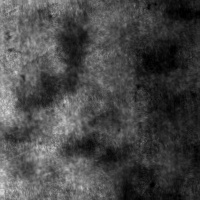patches: (14, 66, 87, 117), (52, 12, 97, 81), (60, 129, 131, 170), (136, 39, 186, 79), (116, 162, 165, 199), (158, 0, 197, 24)
